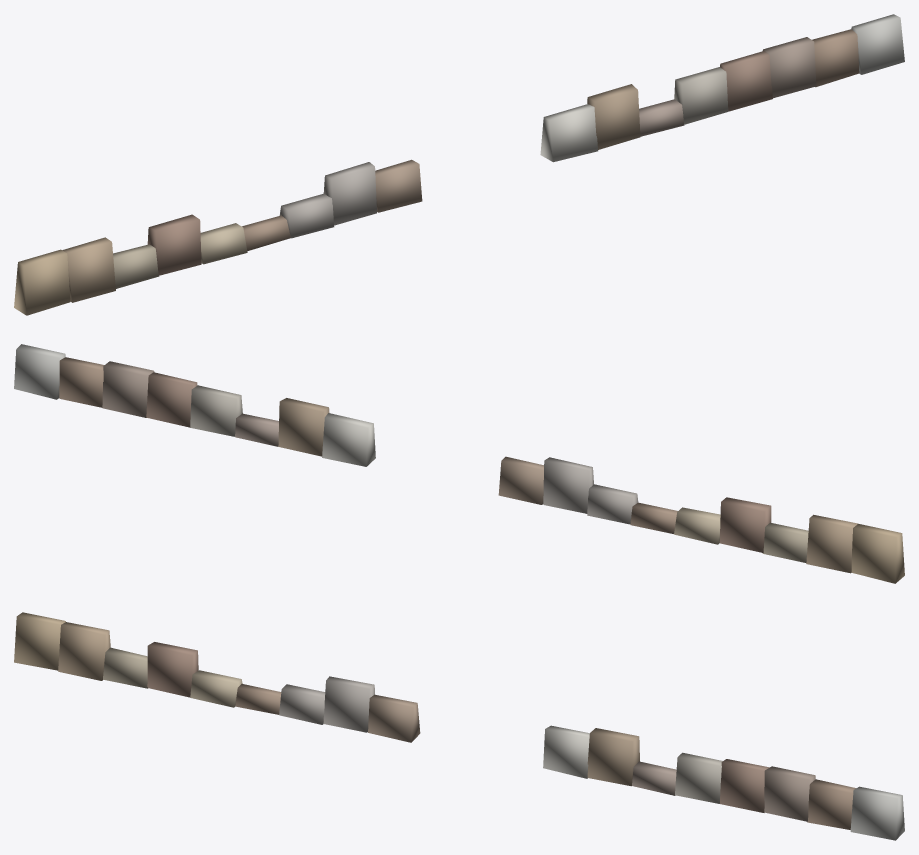
Rendered from farm_19_19_far.glb.
3 views of the same model, one above another, from view 1: azimuth 30°, elevation 25°; view 2: azimuth 150°, elevation 25°; view 3: azimuth 330°, elevation 25° (orthographic). The views are drawn at different scales.
Visible parts, largest first — view 1: geometry_0; view 2: geometry_0; view 3: geometry_0.
Part boxes in pixels (left/top/right/bottom): geometry_0: left=14, top=14, right=904, bottom=315; geometry_0: left=14, top=344, right=904, bottom=583; geometry_0: left=14, top=612, right=904, bottom=840.
Size of the model in its own units: 30.88 by 1.74 by 2.55.
